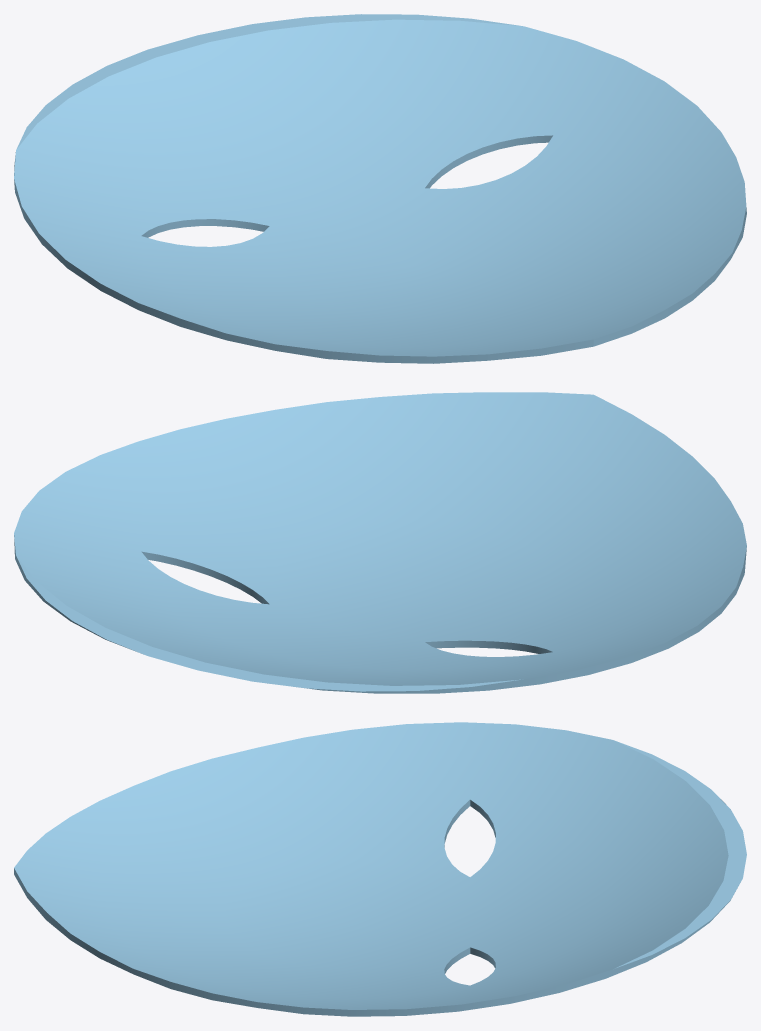
Rendered from Mask.dae.
3 views of the same model, one above another, from view 1: azimuth 30°, elevation 25°; view 2: azimuth 150°, elevation 25°; view 3: azimuth 270°, elevation 25° (orthographic). The views are drawn at different scales.
Parts seen in each view (by area): view 1: ID2; view 2: ID2; view 3: ID2.
Boxes of the visible parts, left/top/right/bottom form: ID2: left=14, top=14, right=746, bottom=363; ID2: left=14, top=392, right=746, bottom=693; ID2: left=14, top=722, right=746, bottom=1016.
Bounding box in the file's own units: 0.1228 × 0.1334 × 0.0151.
